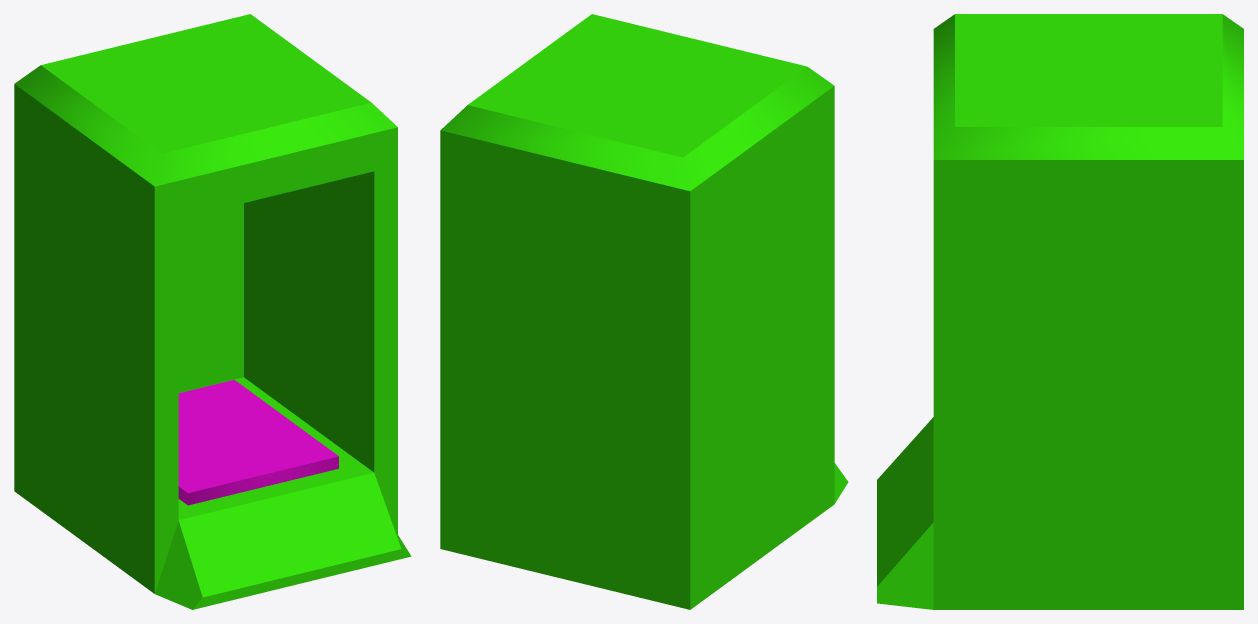
Rendered from TubeReceiver.fbx.
3 views of the same model, side by side, from view 1: azimuth 30°, elevation 25°; view 2: azimuth 150°, elevation 25°; view 3: azimuth 270°, elevation 25° (orthographic). The views are drawn at different scales.
Visible parts, largest first — view 1: TubeReciever; view 2: TubeReciever; view 3: TubeReciever.
Part boxes in pixels (<box>): TubeReciever: <box>14,14,411,609</box>; TubeReciever: <box>440,14,848,609</box>; TubeReciever: <box>877,14,1243,609</box>.
Bounding box in the file's own units: 24.49 × 41.29 × 28.97.
